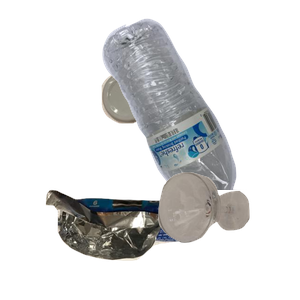glass: (156, 170, 300, 300)
metal: (99, 68, 244, 184)
plastic: (100, 16, 300, 196)
trash: (43, 187, 234, 300)
